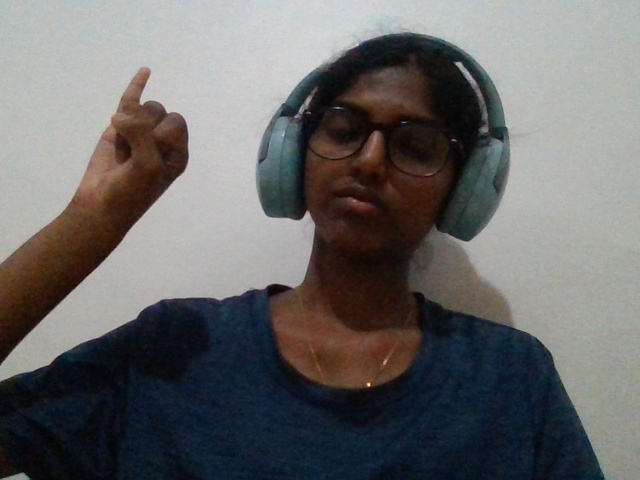I: (34, 49, 242, 295)
